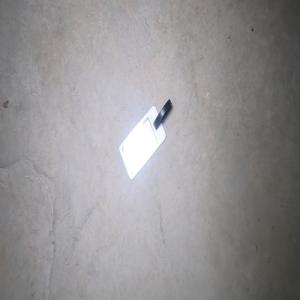LuggageTag: (117, 97, 172, 181)
